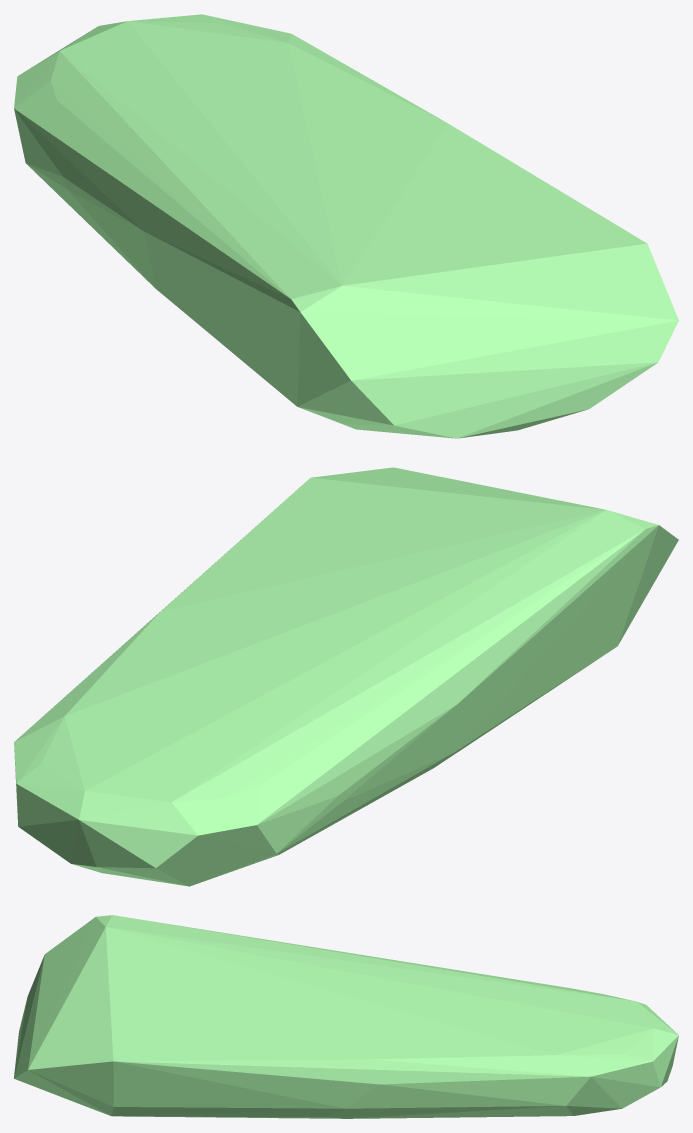
File: linkhou_LR4_R560_link5_respondable_coll_9.dae
The picture shows the model from 3 angles, top to bottom: view 1: azimuth 30°, elevation 25°; view 2: azimuth 150°, elevation 25°; view 3: azimuth 270°, elevation 25°; orthographic projection. The views are drawn at different scales.
Parts seen in each view (by area): view 1: Node_00000209DB3AB9C0; view 2: Node_00000209DB3AB9C0; view 3: Node_00000209DB3AB9C0.
Part boxes in pixels (x1=…): Node_00000209DB3AB9C0: x1=14, y1=14, x2=678, y2=438; Node_00000209DB3AB9C0: x1=14, y1=467, x2=678, y2=886; Node_00000209DB3AB9C0: x1=14, y1=915, x2=678, y2=1118.
Size of the model in its own units: 0.0925 by 0.0414 by 0.2085.
